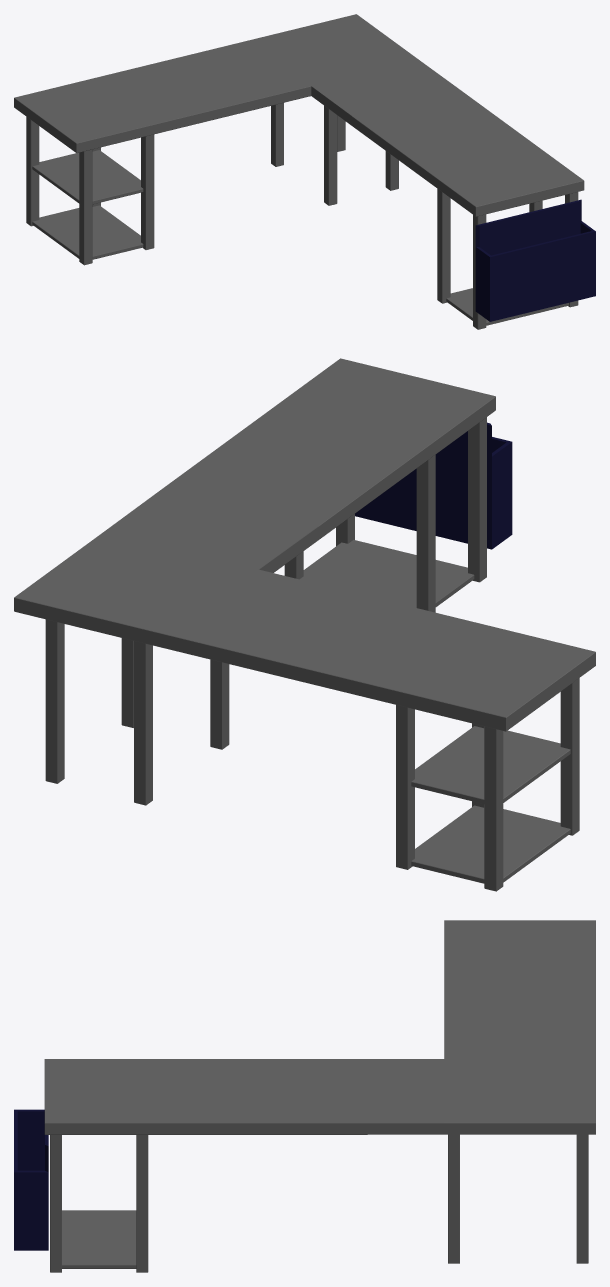
Rendered from LShapedDesk1.glb.
3 views of the same model, one above another, from view 1: azimuth 30°, elevation 25°; view 2: azimuth 150°, elevation 25°; view 3: azimuth 270°, elevation 25° (orthographic). The views are drawn at different scales.
Parts seen in each view (by area): view 1: LShapedDesk1; view 2: LShapedDesk1; view 3: LShapedDesk1.
Boxes of the visible parts, box(x1,y1,x2,y2) form: LShapedDesk1: box(14, 14, 595, 329); LShapedDesk1: box(14, 358, 595, 891); LShapedDesk1: box(14, 920, 595, 1272).
Bounding box in the file's own units: 2.46 × 0.8615 × 2.98.
